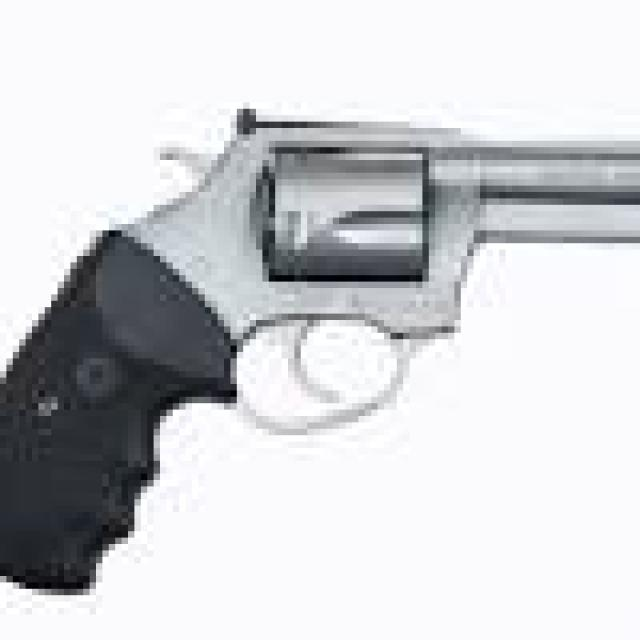Gun: (53, 72, 640, 577)
